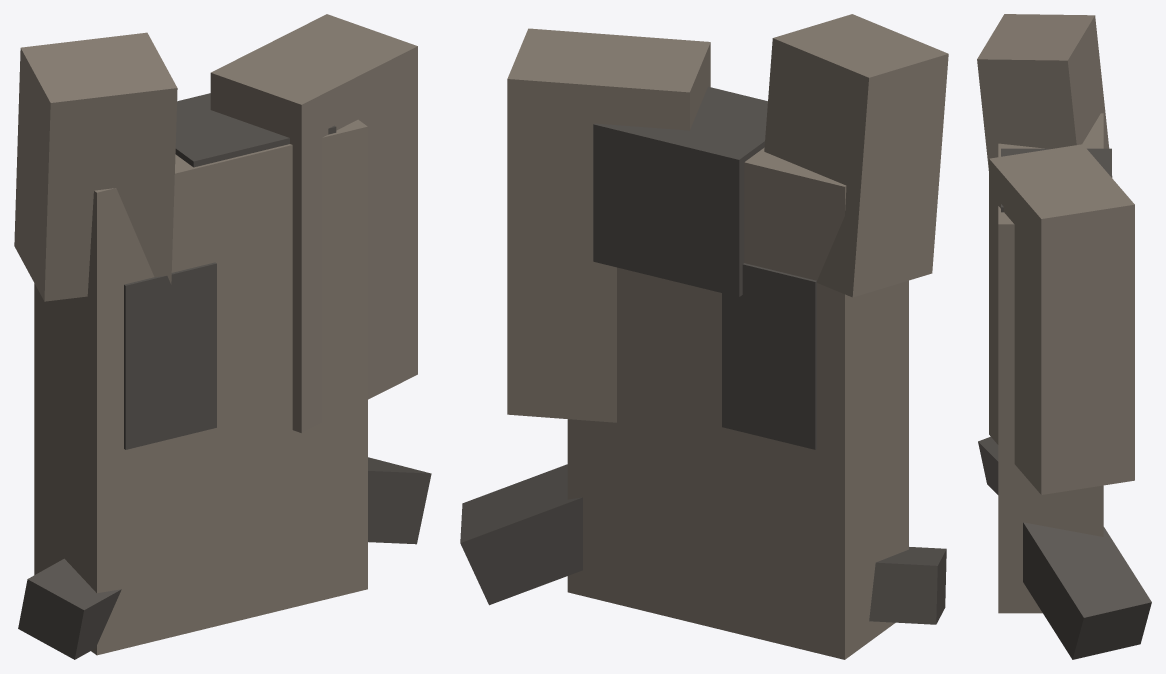
The model's file is prop_rubble.glb.
3 views of the same model, side by side, from view 1: azimuth 30°, elevation 25°; view 2: azimuth 150°, elevation 25°; view 3: azimuth 270°, elevation 25° (orthographic). The views are drawn at different scales.
Parts seen in each view (by area): view 1: body_wall, accent_bite; view 2: body_wall, accent_bite; view 3: body_wall, accent_bite.
Boxes of the visible parts, <box> form: body_wall: <box>14,14,417,655</box>; accent_bite: <box>18,93,431,659</box>; body_wall: <box>507,14,948,659</box>; accent_bite: <box>460,86,946,624</box>; body_wall: <box>977,14,1134,613</box>; accent_bite: <box>978,148,1151,659</box>.
Bounding box in the file's own units: 1.54 × 1.94 × 0.6321.
